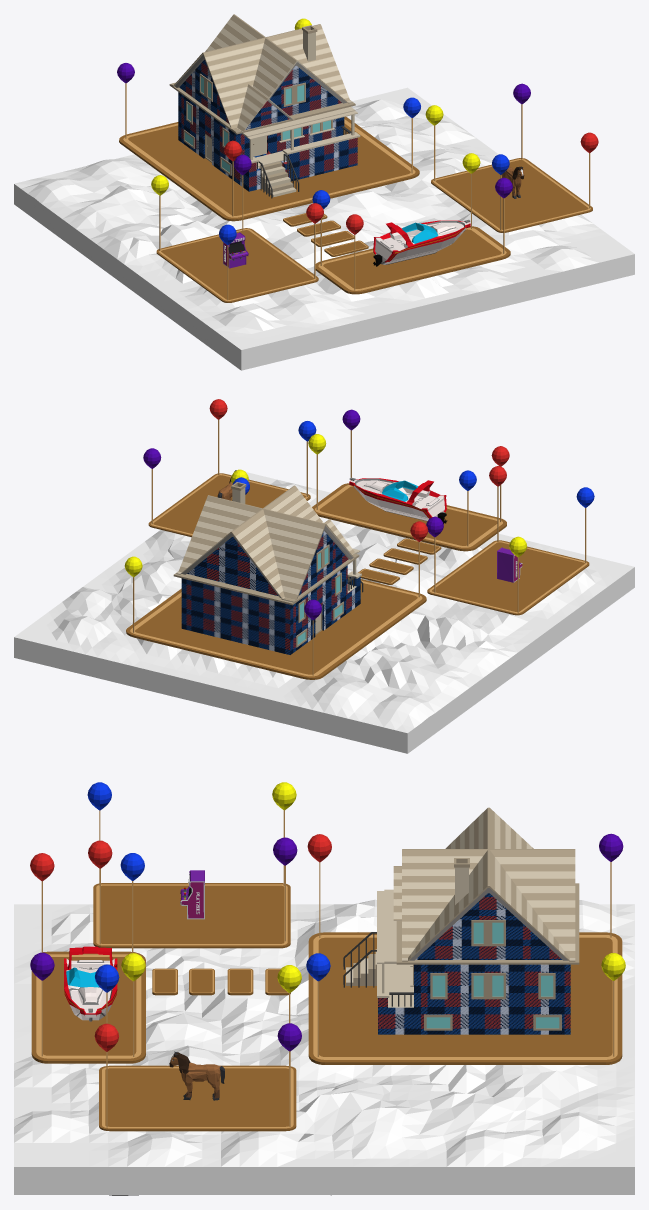
The picture shows the model from 3 angles, top to bottom: view 1: azimuth 30°, elevation 25°; view 2: azimuth 150°, elevation 25°; view 3: azimuth 270°, elevation 25°; orthographic projection. The views are drawn at different scales.
Parts seen in each view (by area): view 1: Cube.013, Cube.171, VEHICLES_BOAT, OBJRANDOM_ARCADE; view 2: Cube.013, Cube.171, VEHICLES_BOAT, OBJRANDOM_ARCADE; view 3: Cube.013, Cube.171, VEHICLES_BOAT, ANIMAL_CABALLO, OBJRANDOM_ARCADE.
Part boxes in pixels (box(x1,y1,x2,y2)): Cube.013: box(14, 18, 634, 370); Cube.171: box(169, 14, 360, 198); VEHICLES_BOAT: box(373, 219, 470, 266); OBJRANDOM_ARCADE: box(223, 232, 248, 268); Cube.013: box(14, 399, 634, 753); Cube.171: box(173, 482, 363, 654); VEHICLES_BOAT: box(349, 477, 447, 523); OBJRANDOM_ARCADE: box(497, 547, 522, 582); Cube.013: box(14, 782, 634, 1194); Cube.171: box(343, 807, 579, 1034); VEHICLES_BOAT: box(64, 946, 117, 1021); ANIMAL_CABALLO: box(169, 1051, 224, 1100); OBJRANDOM_ARCADE: box(180, 870, 204, 919).
Size of the model in its own units: 4000 by 1661 by 4000.
36 materials, 2 textured.
